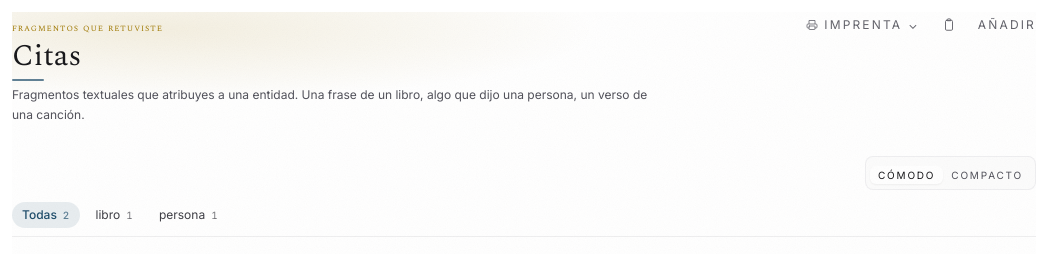
Scenario: <QuotesView /> › agrupa Pliego, Libro y Careo en un botón superior de Imprenta
This screenshot has width=1048, height=254.
Click the button "Imprenta ⌄": (863, 25) [806, 17, 920, 33]
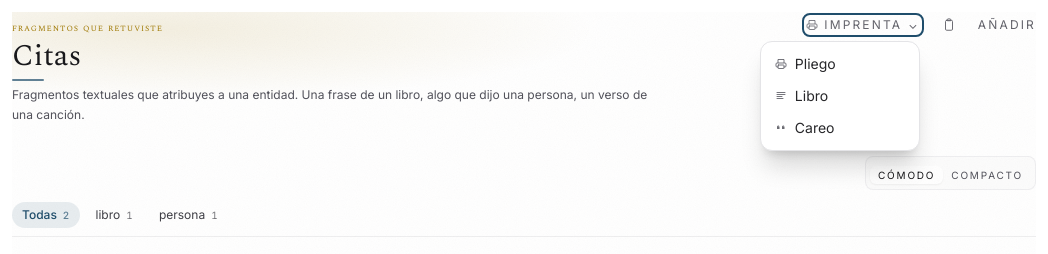
Now the menu item "Pliego" is shown, box [767, 48, 913, 80]
Now the menu item "Libro" is shown, box [767, 80, 913, 112]
Now the menu item "Careo" is shown, box [767, 112, 913, 144]
